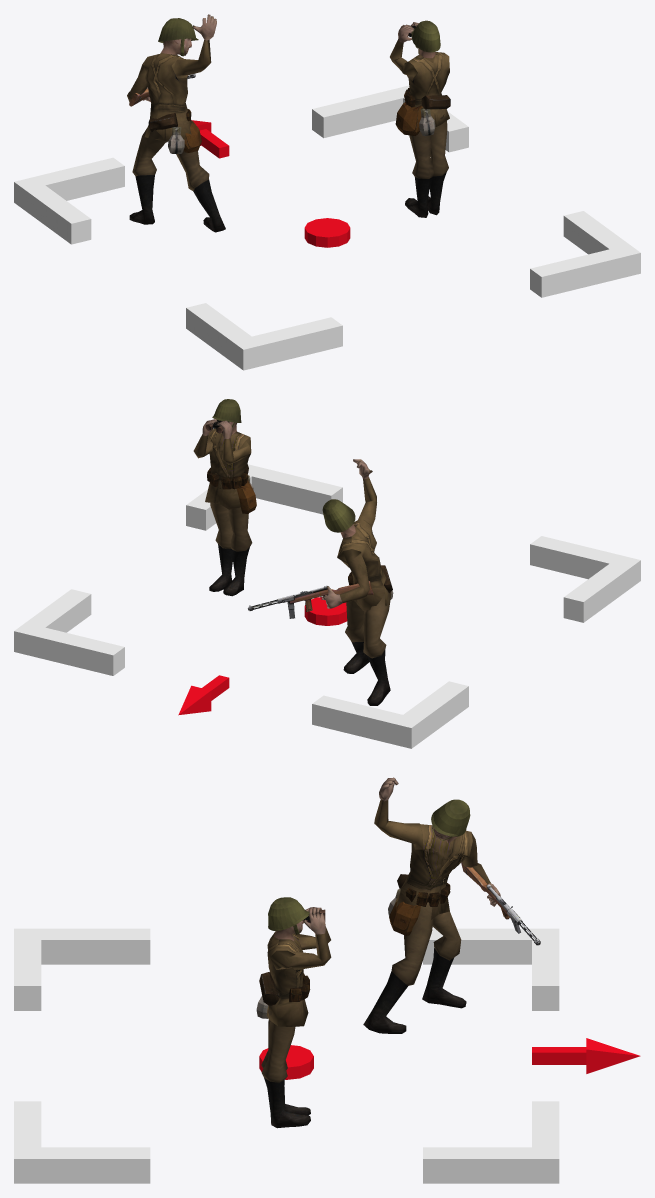
The model's file is cf_sov_cc.obj.
The picture shows the model from 3 angles, top to bottom: view 1: azimuth 30°, elevation 25°; view 2: azimuth 150°, elevation 25°; view 3: azimuth 270°, elevation 25°; orthographic projection. The views are drawn at different scales.
Parts seen in each view (by area): view 1: i_frame_Cube.002, Mors_SMG1, german_rigged.007, pointer_Cylinder, arrow_Cube; view 2: i_frame_Cube.002, Mors_SMG1, german_rigged.007, arrow_Cube, pointer_Cylinder; view 3: i_frame_Cube.002, Mors_SMG1, german_rigged.007, arrow_Cube, pointer_Cylinder.
Boxes of the visible parts, x1,y1,x2,y2 form: i_frame_Cube.002: [14, 85, 640, 370]; Mors_SMG1: [127, 14, 225, 232]; german_rigged.007: [390, 20, 450, 217]; pointer_Cylinder: [304, 218, 350, 247]; arrow_Cube: [191, 120, 229, 158]; i_frame_Cube.002: [14, 464, 640, 748]; Mors_SMG1: [247, 459, 393, 705]; german_rigged.007: [193, 399, 256, 596]; arrow_Cube: [178, 675, 229, 715]; pointer_Cylinder: [304, 597, 347, 625]; i_frame_Cube.002: [14, 928, 559, 1183]; Mors_SMG1: [363, 777, 540, 1033]; german_rigged.007: [256, 897, 331, 1128]; arrow_Cube: [532, 1038, 640, 1073]; pointer_Cylinder: [259, 1045, 313, 1079].
Bounding box in the file's own units: 4 × 2.06 × 4.6.
Materials: 2 (2 with a texture image).
